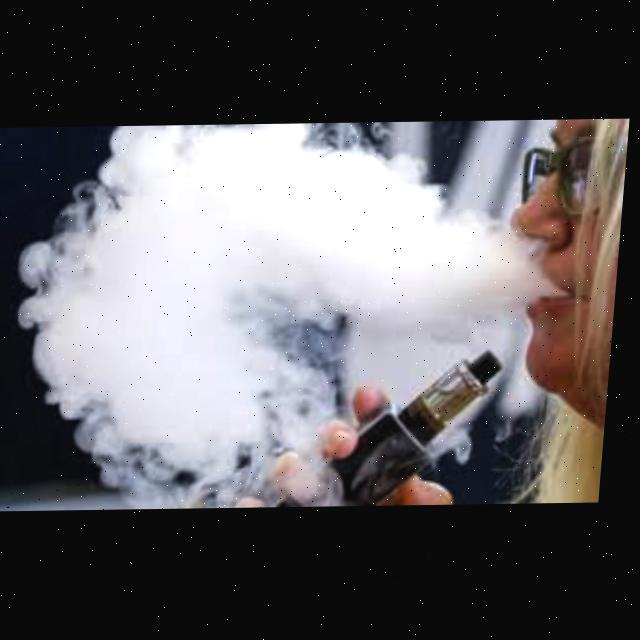vape: (352, 350, 512, 507)
